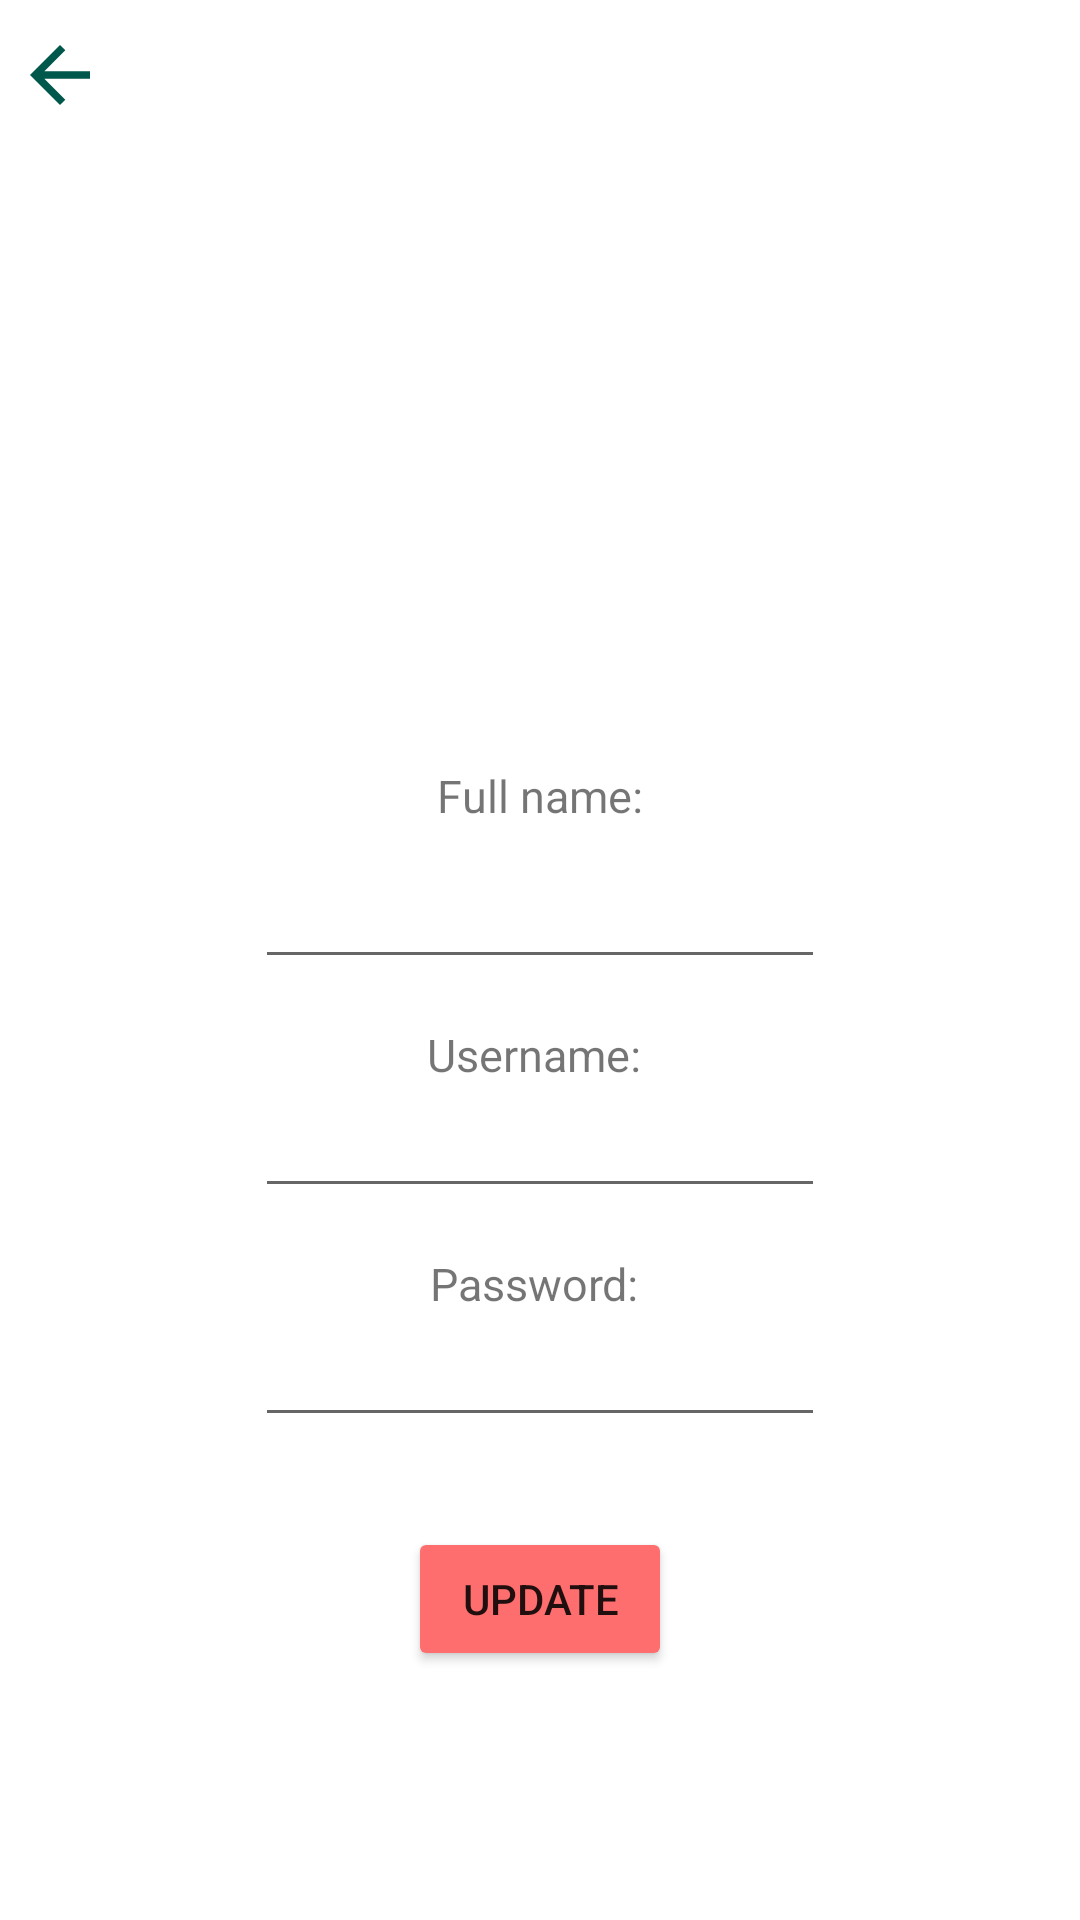

Icon bounding boxes for this 1080w x 1920h phone screenshot, format (x1=x1, y1=y1, x2=x2, y2=y2):
arrow back: (x1=30, y1=45, x2=90, y2=105)
